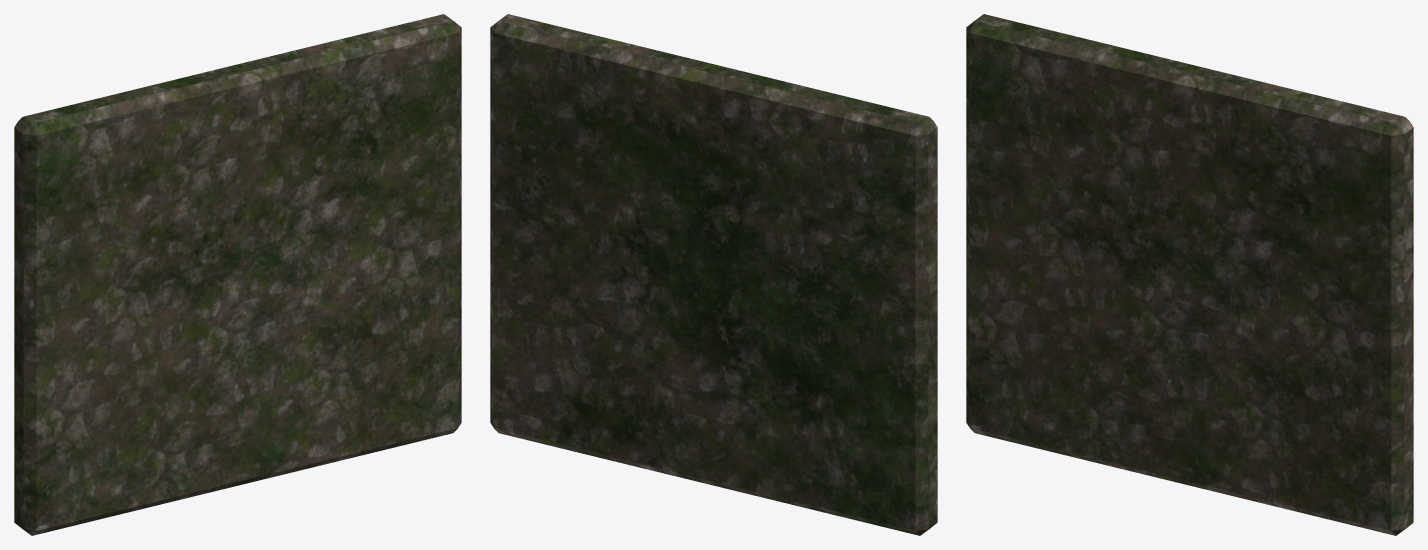
Rendered from MK_CampWall_Wall.fbx.
3 views of the same model, side by side, from view 1: azimuth 30°, elevation 25°; view 2: azimuth 150°, elevation 25°; view 3: azimuth 330°, elevation 25° (orthographic).
Parts seen in each view (by area): view 1: MK_CampWall_Wall; view 2: MK_CampWall_Wall; view 3: MK_CampWall_Wall.
Boxes of the visible parts, x1,y1,x2,y2 form: MK_CampWall_Wall: (14, 14, 461, 535); MK_CampWall_Wall: (490, 14, 937, 535); MK_CampWall_Wall: (966, 14, 1413, 535).
Size of the model in its own units: 133 by 120 by 10.
Materials: 1 (1 with a texture image).
